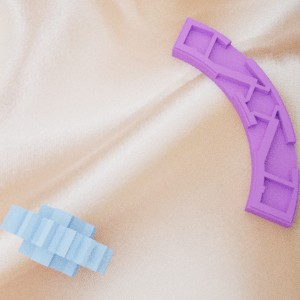lego: (171, 16, 300, 228), (0, 203, 114, 277)
